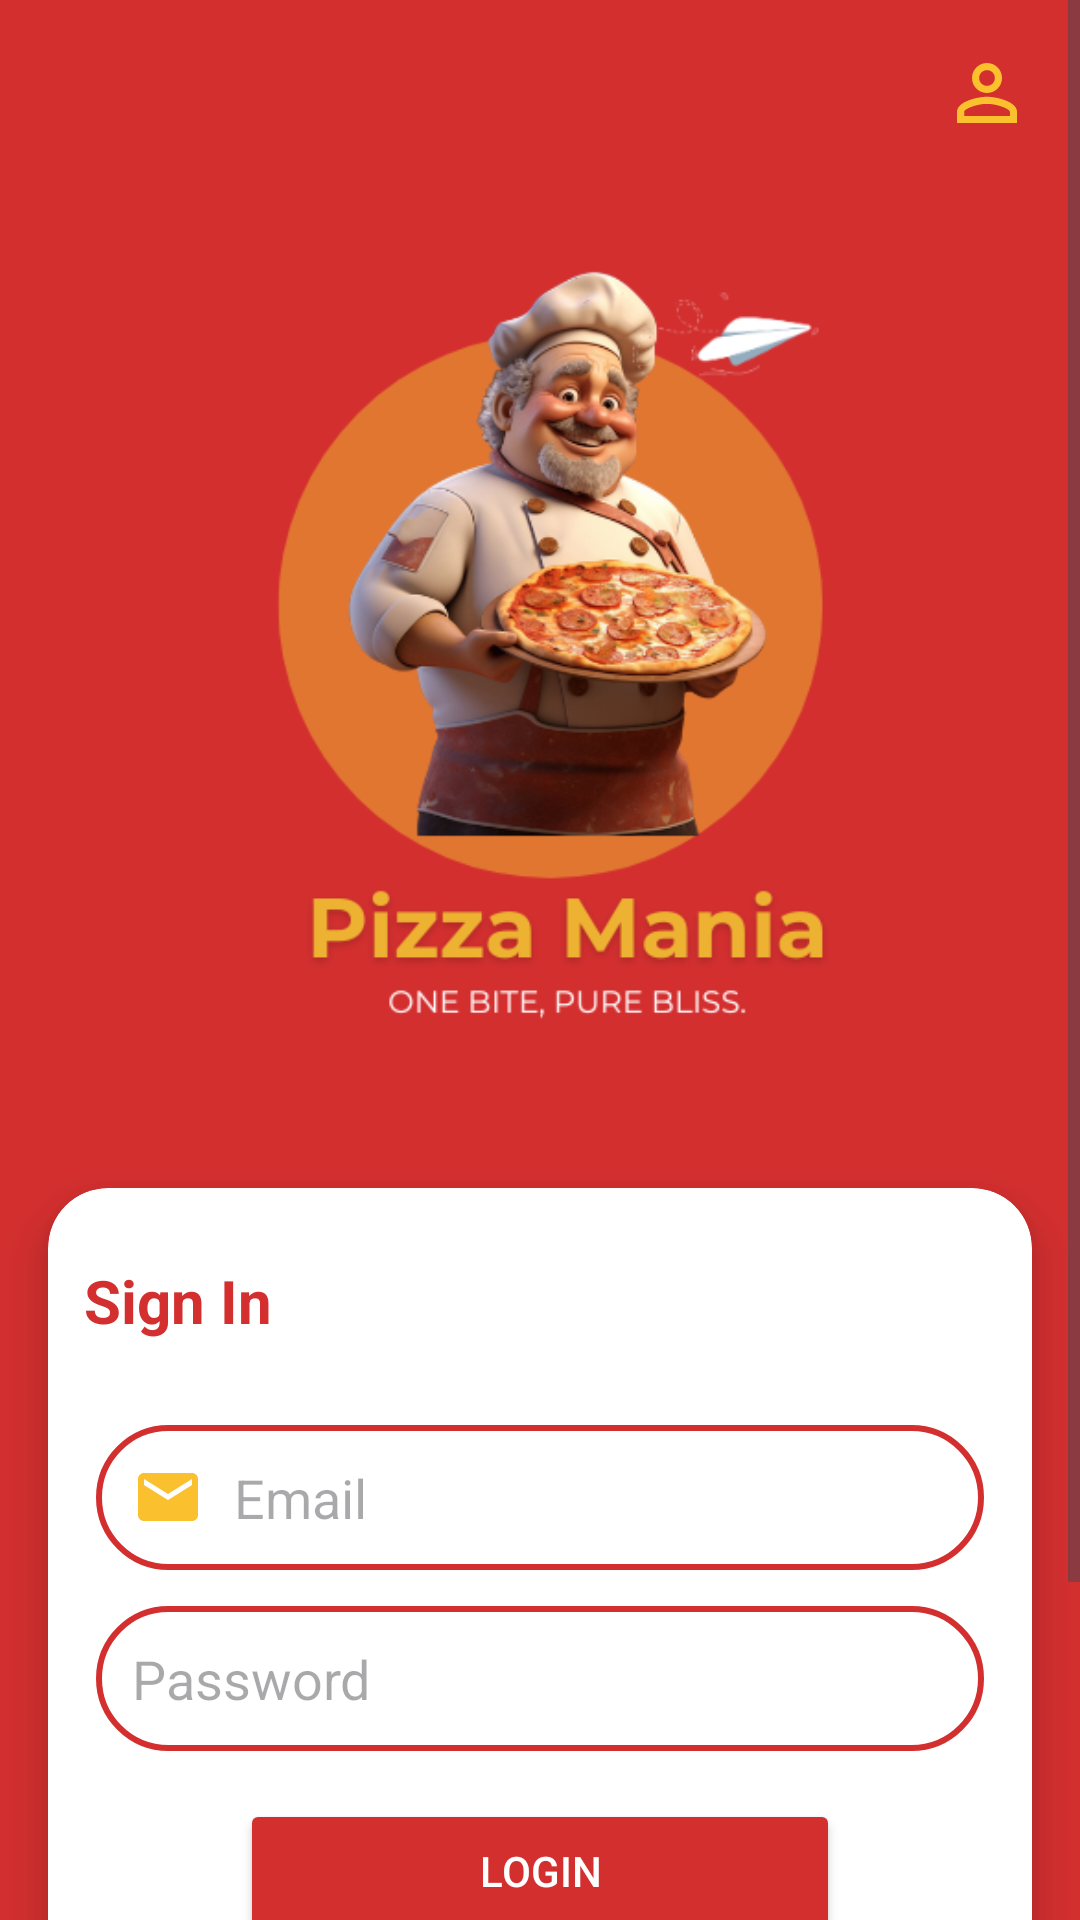

Icons on this 1080w x 1920h Android screen, each with the point to tap as [x,y]:
Admin Login: [987,93]
